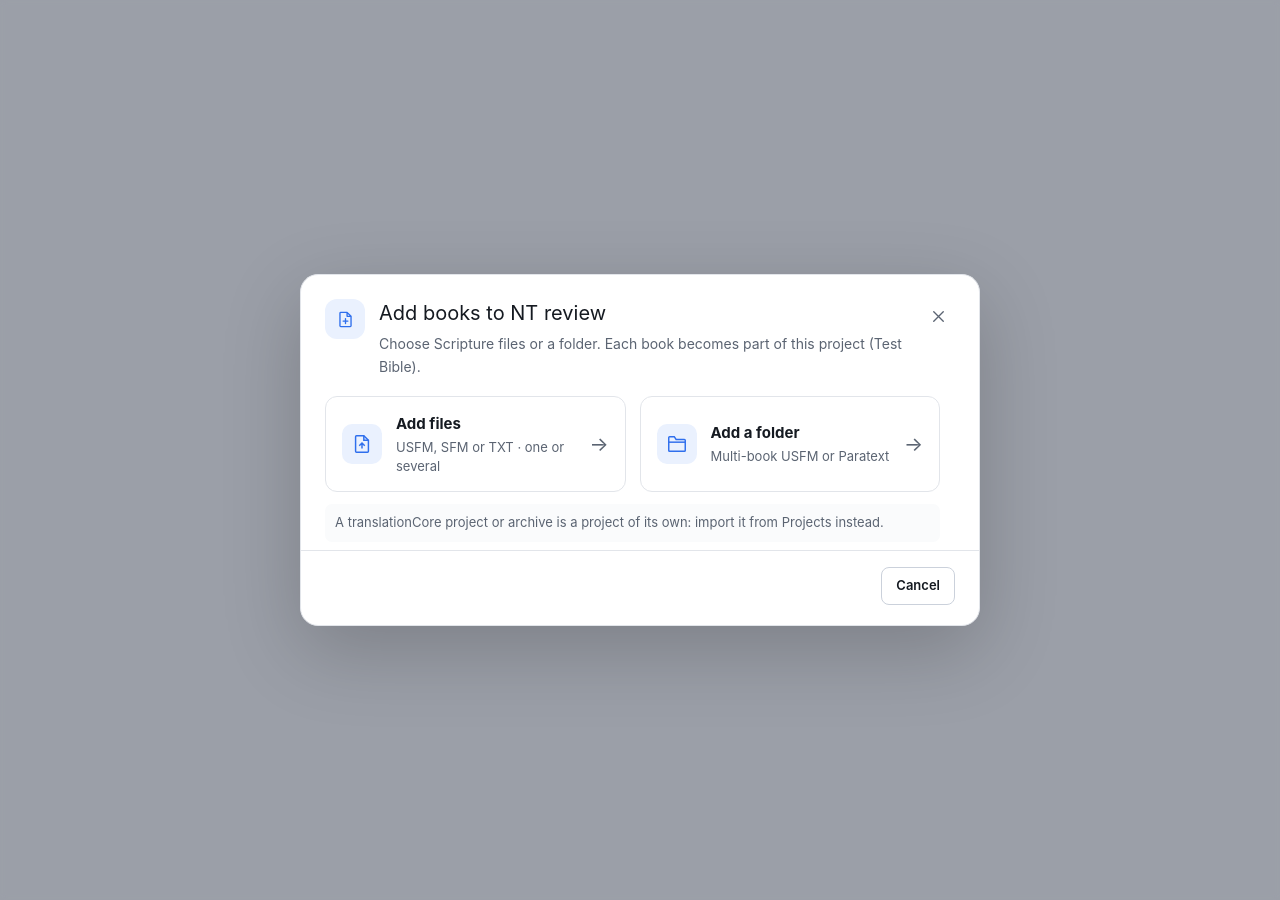
Test: AddBooksDialog › shows the engine's refusal on the chooser when the source cannot be added
What coordinates should you click on to do the following:
click the button "Add files USFM, SFM or TXT · one or several →"
I would click on:
 (475, 444)
Its box is [325,396,626,492].
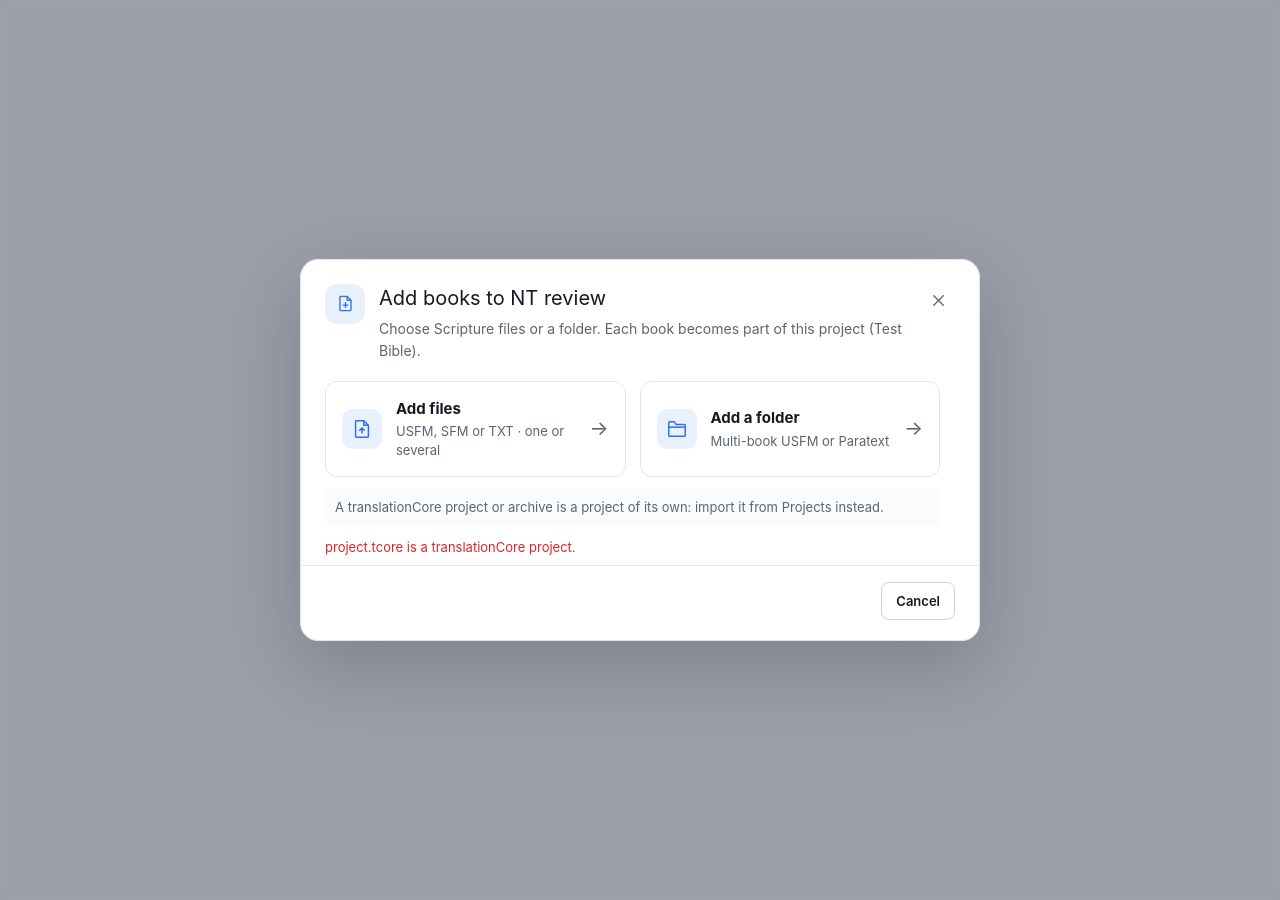
Check: the button "Add files USFM, SFM or TXT · one or several →" is enabled, box [325,380,626,477]
Check: the message shows "translationCore project", box [325,539,576,555]
